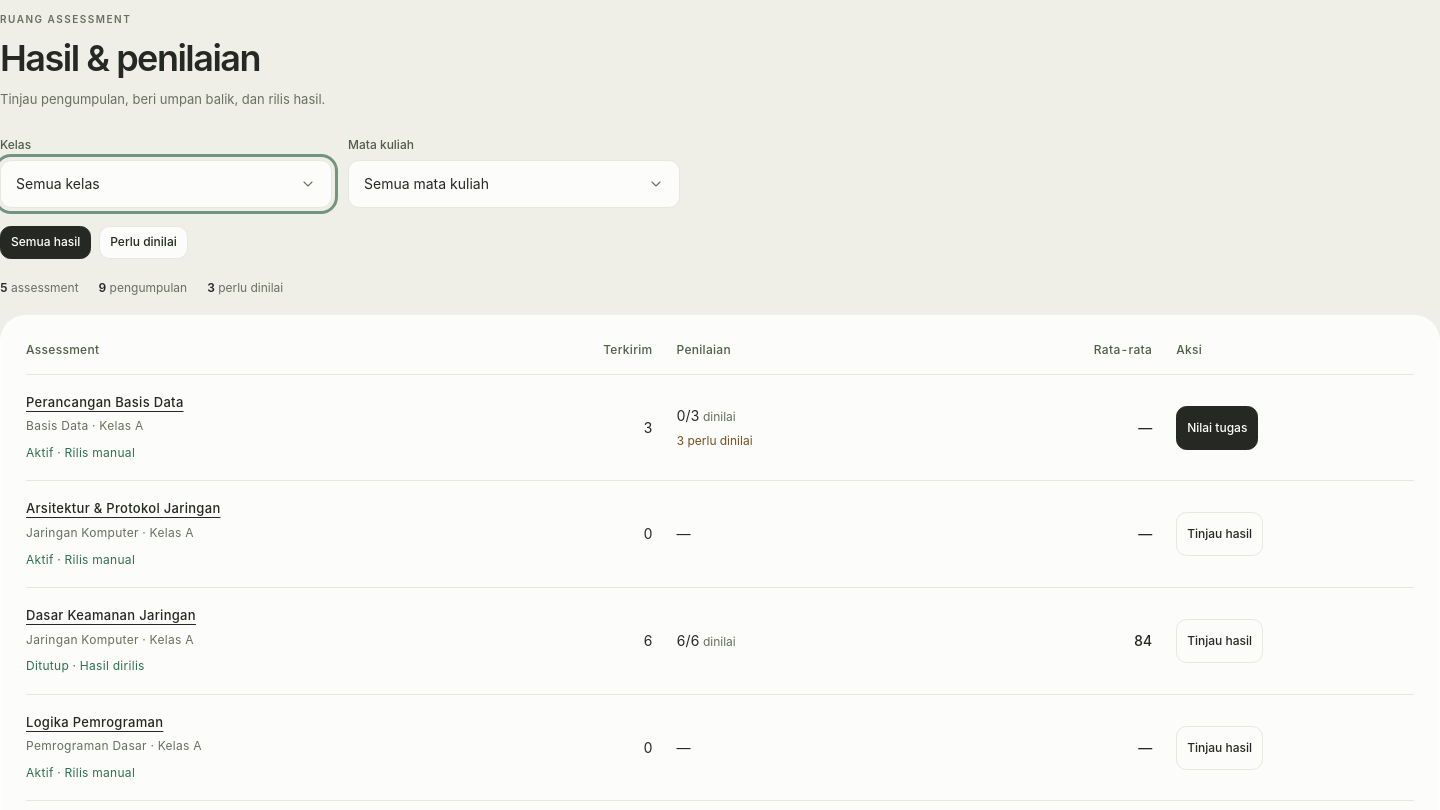
Test: class comparison and class register › combines class/course/pending filters without losing select focus or their query state
Click the dropdown labelled "Semua kelas".
click(58, 183)  # box [0, 160, 332, 208]
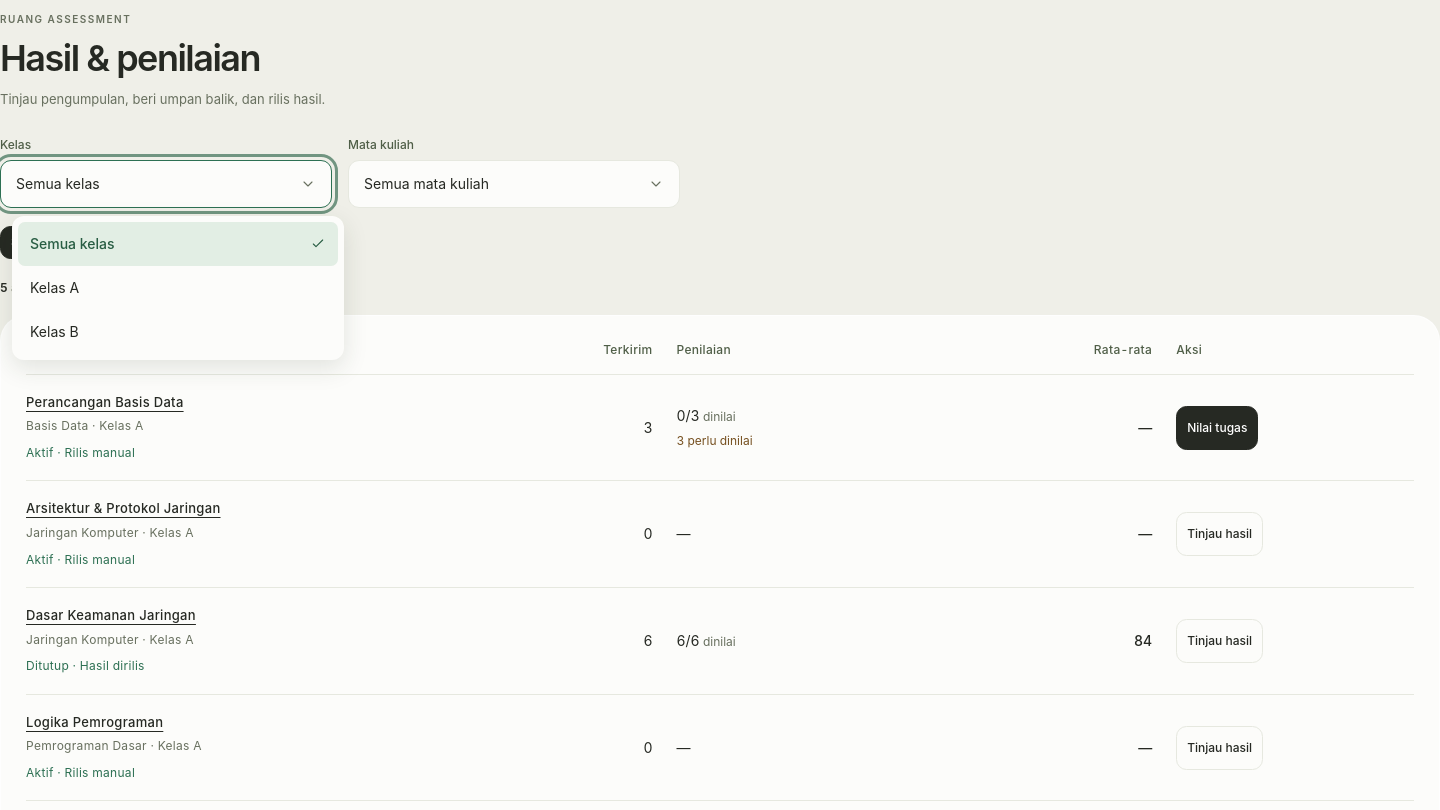
Click the option with class "soft-field-option" showing "Kelas B".
click(54, 331)  # box [30, 323, 79, 340]
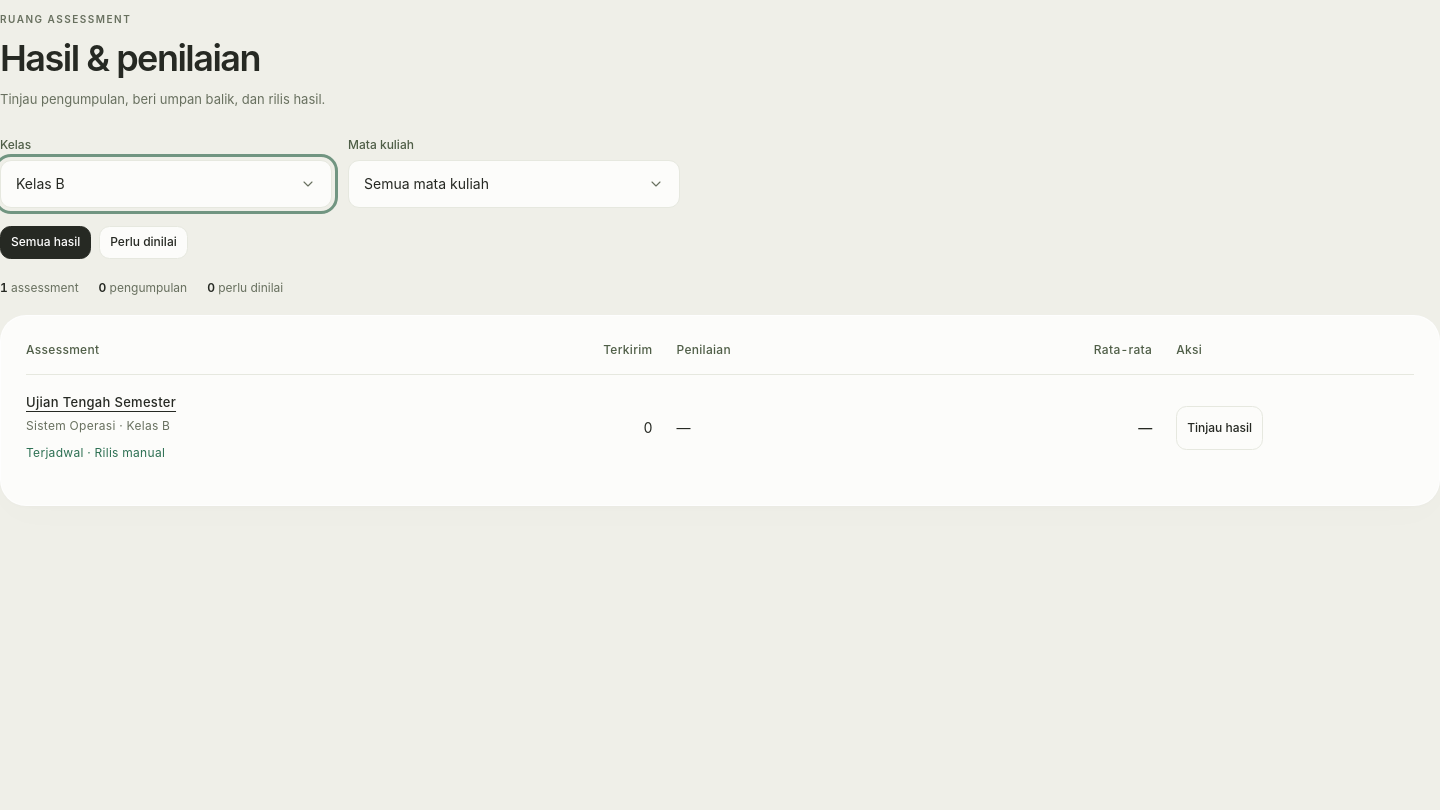
Expected: the row with class "result-register-row" shows "Ujian Tengah Semester", [26, 393, 486, 412]
Expected: the number of rows with class "result-register-row" is 1, [26, 374, 1414, 480]
Click the dropdown labelled "Semua mata kuliah".
click(426, 183)  # box [348, 160, 680, 208]
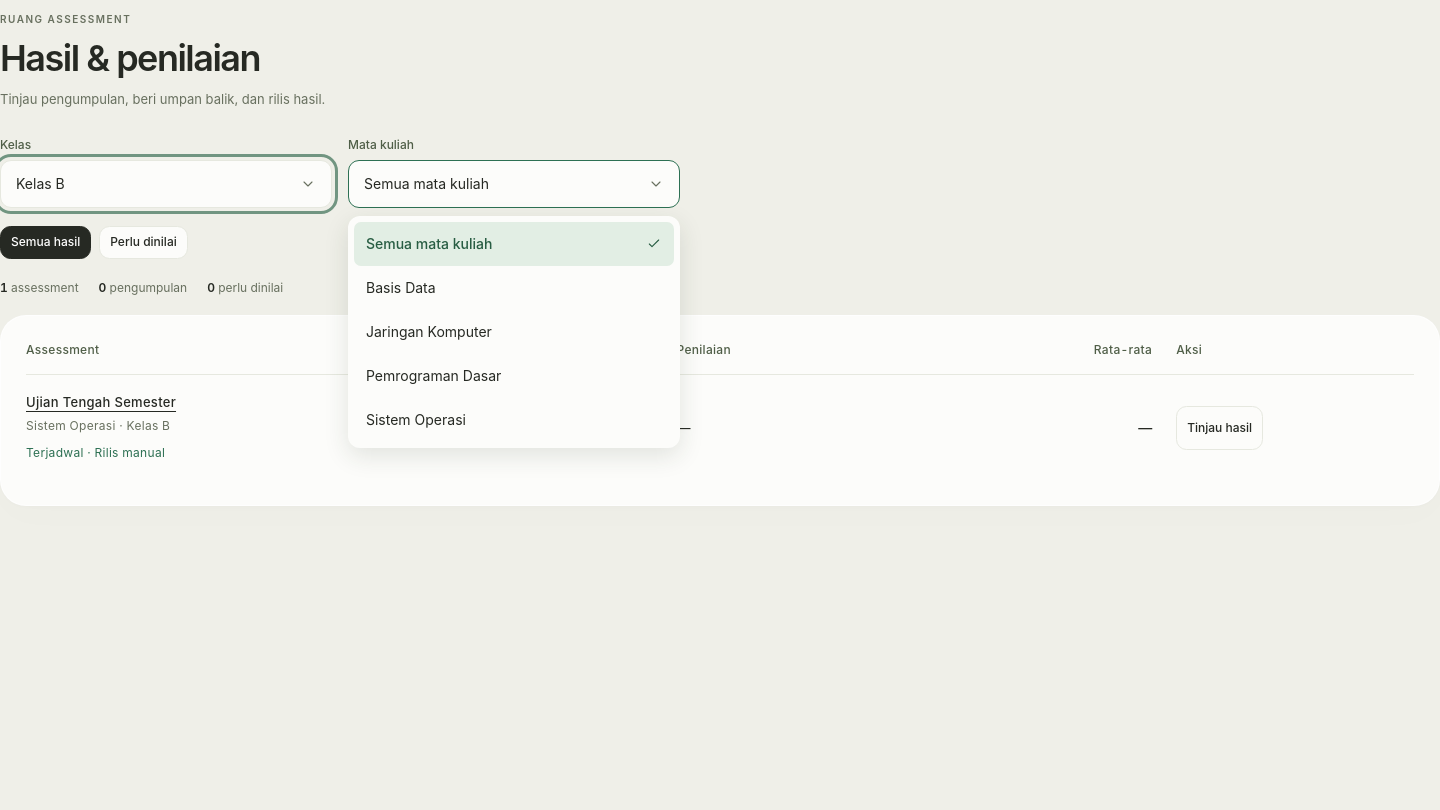
Click the option with class "soft-field-option" showing "Basis Data".
click(401, 287)  # box [366, 279, 436, 296]
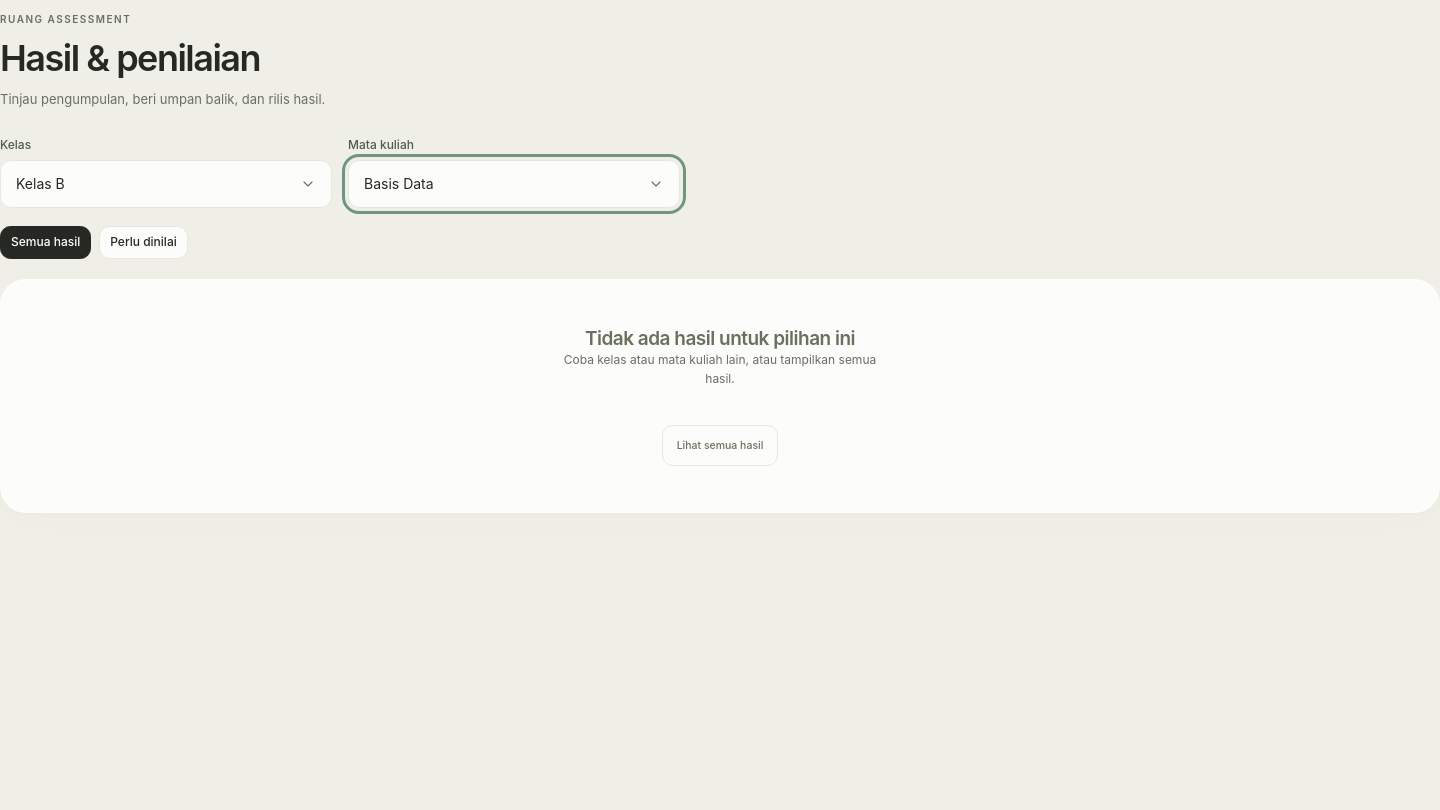
Expected: the message shows "Tidak ada hasil untuk pilihan ini", [585, 326, 855, 350]
Click the link "Lihat semua hasil".
click(720, 446)  # box [662, 425, 778, 466]
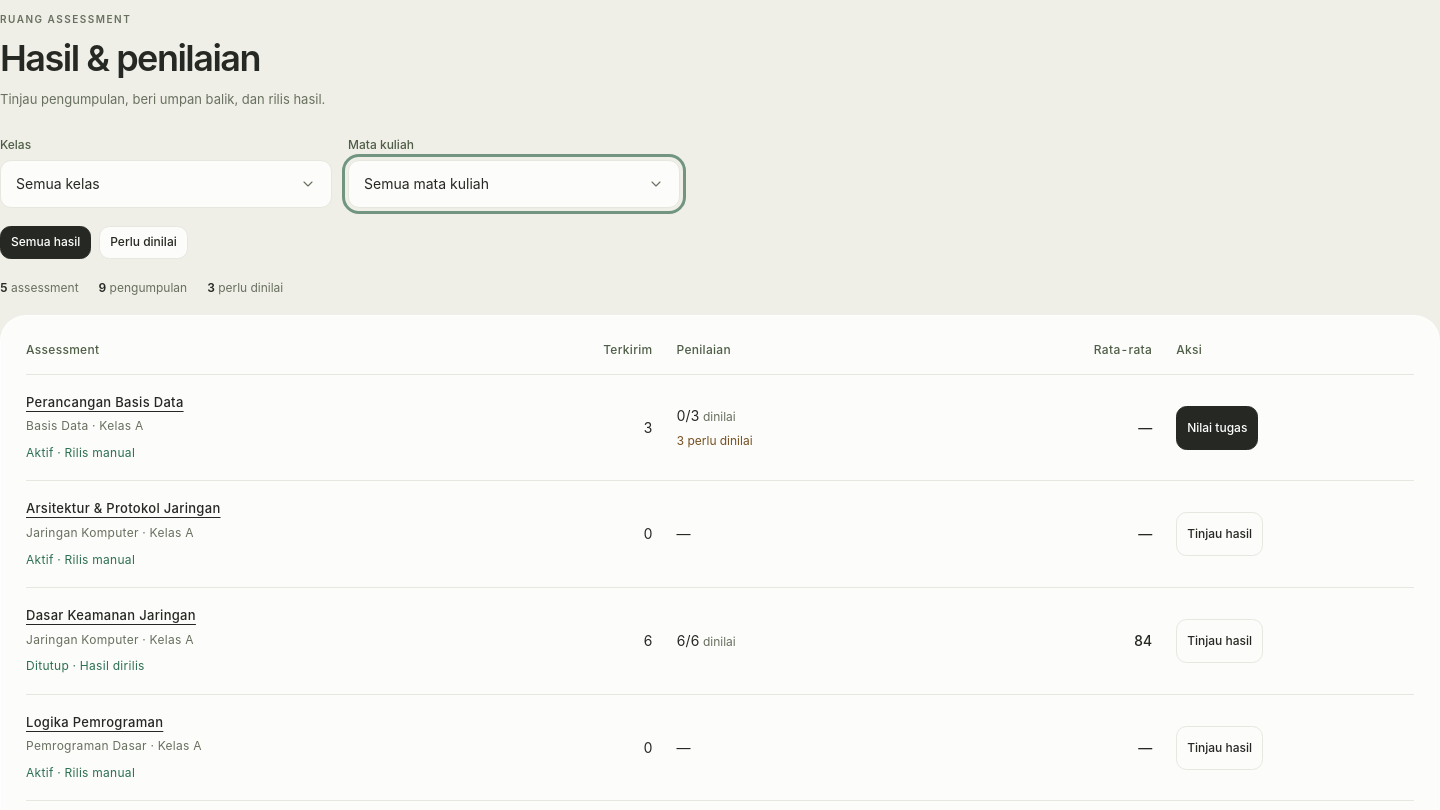
Click the link "Perlu dinilai".
click(143, 242)  # box [99, 226, 188, 258]
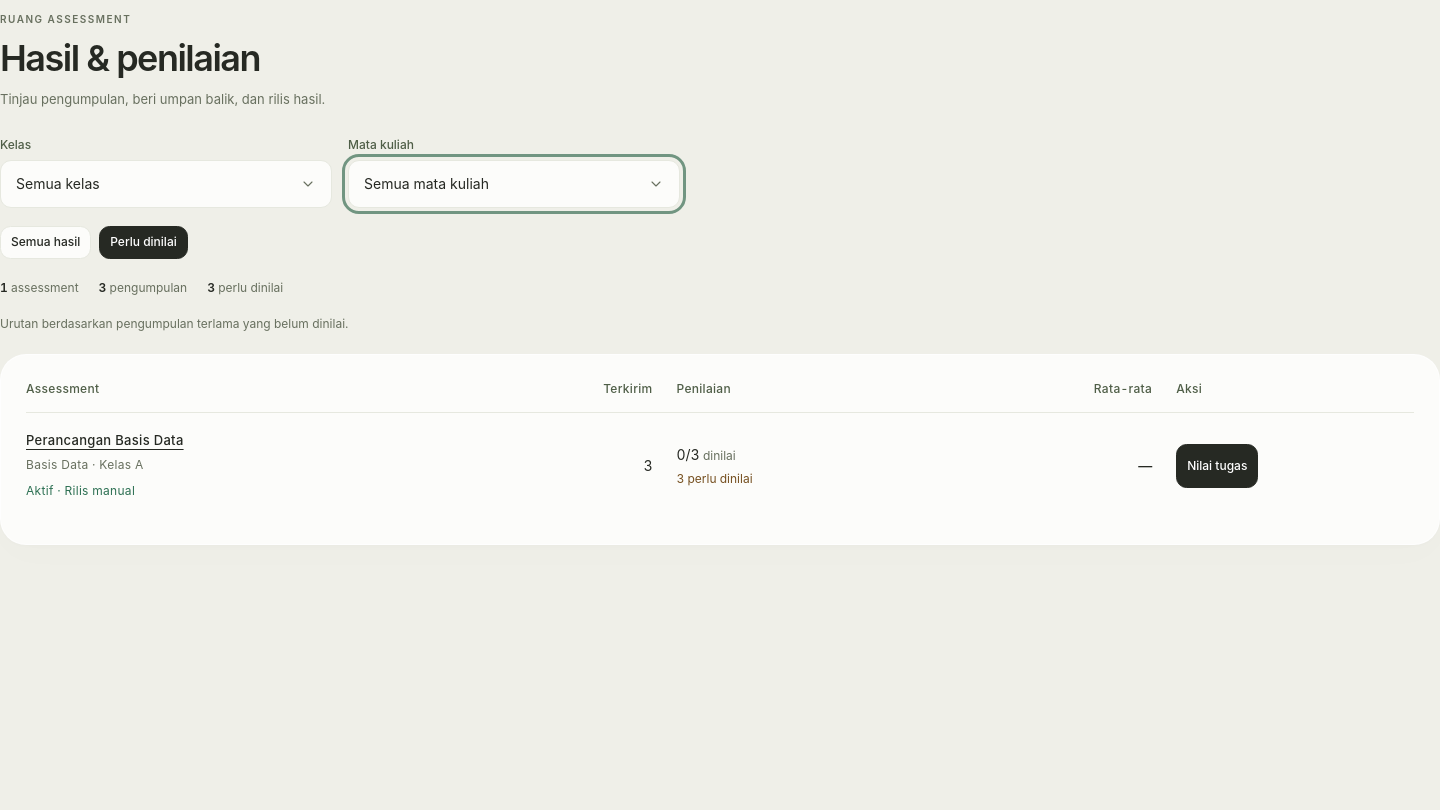
Expected: the element with class "register-summary" shows "3 perlu dinilai", [0, 280, 283, 294]
Expected: the number of rows with class "result-register-row" is 1, [26, 413, 1414, 519]
